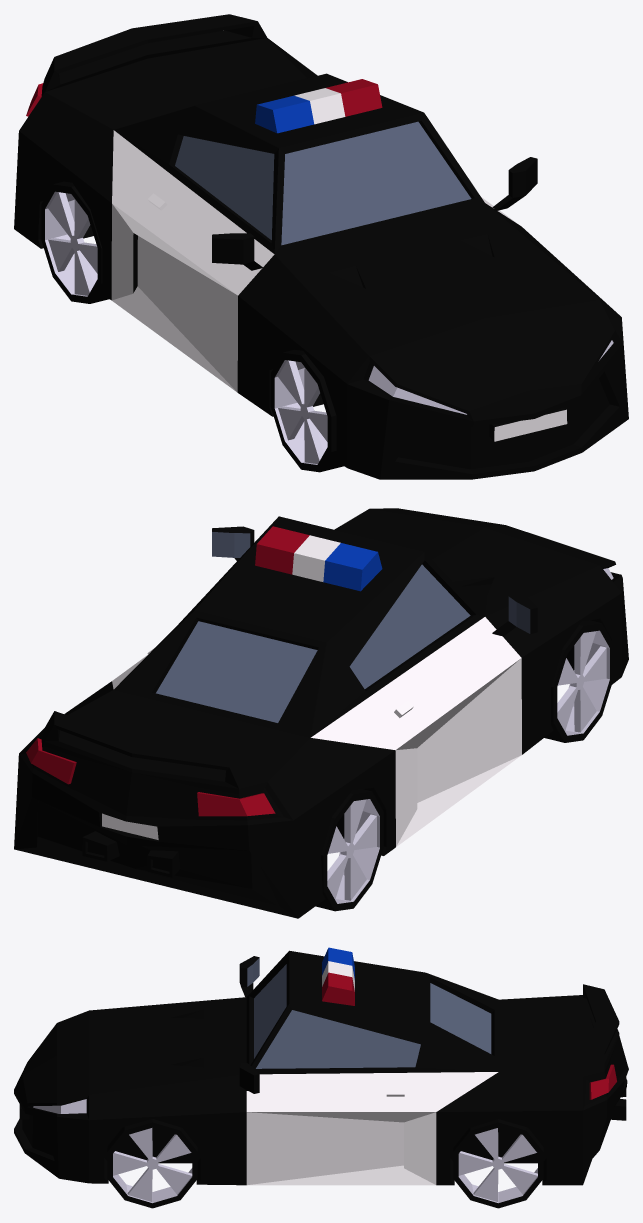
Rendered from Police Sports.glb.
3 renders of one model, top to bottom at view 1: azimuth 30°, elevation 25°; view 2: azimuth 150°, elevation 25°; view 3: azimuth 270°, elevation 25°, orthographic. The views are drawn at different scales.
Visible parts, largest first — view 1: Police Sports; view 2: Police Sports; view 3: Police Sports.
Part boxes in pixels (x1,y1,x2,y2): Police Sports: (14, 14, 628, 479); Police Sports: (14, 508, 628, 918); Police Sports: (14, 947, 628, 1208).
Bounding box in the file's own units: 0.5715 × 0.4234 × 1.24.
